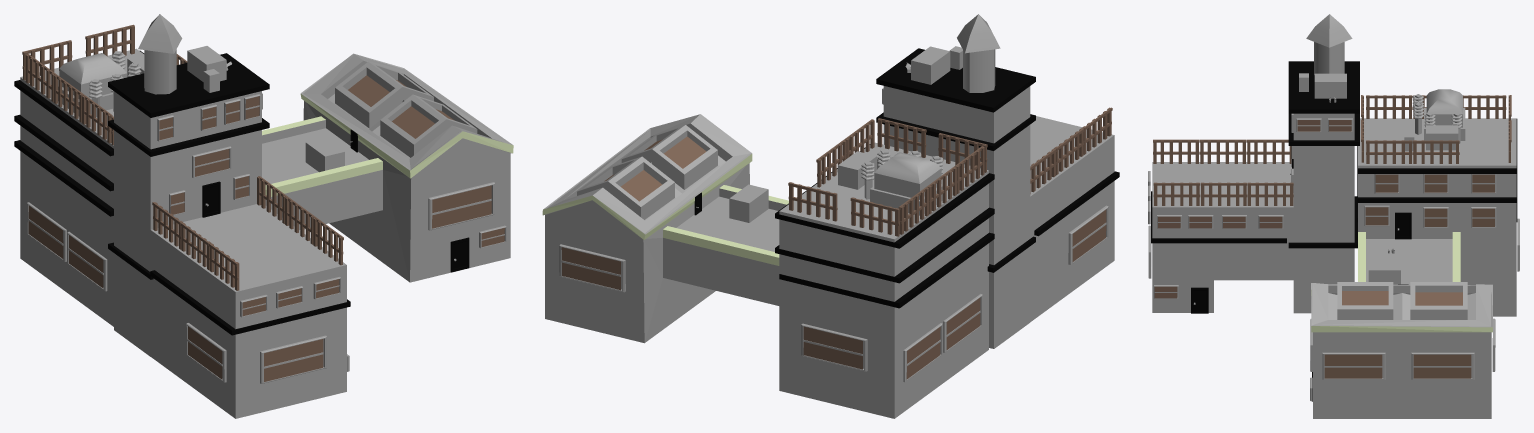
Rendered from IndustrialAttached.fbx.
3 views of the same model, side by side, from view 1: azimuth 30°, elevation 25°; view 2: azimuth 150°, elevation 25°; view 3: azimuth 270°, elevation 25° (orthographic). The views are drawn at different scales.
Parts seen in each view (by area): view 1: pCube210, pCube219, pCube220, pCylinder72, polySurface726, polySurface734, pCube235, pCube223, polySurface730, polySurface732, polySurface733, pCube221 (+23 smaller); view 2: pCube210, pCube219, pCube220, pCube235, pCylinder72, polySurface729, polySurface735, pCube217, pCube216, pCube218, polySurface730, polySurface733 (+18 smaller); view 3: pCube210, pCube219, pCube220, polySurface728, polySurface727, pCylinder72, pCube235, pCube216, pCube217, pCube223, pCube233, pCube227 (+28 smaller).
Boxes of the visible parts, left/top/right/bottom form: pCube210: left=20, top=48, right=513, bottom=326; pCube219: left=114, top=91, right=346, bottom=418; pCube220: left=108, top=53, right=269, bottom=117; pCylinder72: left=138, top=14, right=182, bottom=94; polySurface726: left=428, top=182, right=495, bottom=230; polySurface734: left=260, top=335, right=326, bottom=383; pCube235: left=58, top=53, right=126, bottom=116; pCube223: left=150, top=270, right=350, bottom=335; polySurface730: left=186, top=323, right=226, bottom=382; polySurface732: left=67, top=231, right=107, bottom=291; polySurface733: left=27, top=202, right=66, bottom=261; pCube221: left=108, top=118, right=269, bottom=156; pCube210: left=542, top=114, right=988, bottom=418; pCube219: left=883, top=86, right=1114, bottom=348; pCube220: left=876, top=48, right=1035, bottom=112; pCube235: left=870, top=152, right=942, bottom=215; pCylinder72: left=957, top=14, right=1000, bottom=92; polySurface729: left=559, top=244, right=625, bottom=292; polySurface735: left=801, top=323, right=867, bottom=371; pCube217: left=775, top=207, right=994, bottom=283; pCube216: left=775, top=144, right=994, bottom=248; pCube218: left=779, top=232, right=994, bottom=308; polySurface730: left=1068, top=205, right=1108, bottom=264; polySurface733: left=903, top=323, right=942, bottom=382; pCube210: left=1311, top=118, right=1516, bottom=418; pCube219: left=1152, top=113, right=1354, bottom=313; pCube220: left=1288, top=61, right=1359, bottom=113; polySurface728: left=1411, top=352, right=1474, bottom=379; polySurface727: left=1322, top=352, right=1385, bottom=379; pCylinder72: left=1306, top=14, right=1352, bottom=74; pCube235: left=1424, top=89, right=1465, bottom=140; pCube216: left=1357, top=119, right=1517, bottom=173; pCube217: left=1357, top=174, right=1517, bottom=202; pCube223: left=1151, top=191, right=1286, bottom=243; pCube233: left=1314, top=73, right=1346, bottom=98; pCube227: left=1153, top=139, right=1199, bottom=163.
Size of the model in its own units: 140 by 113 by 143.
